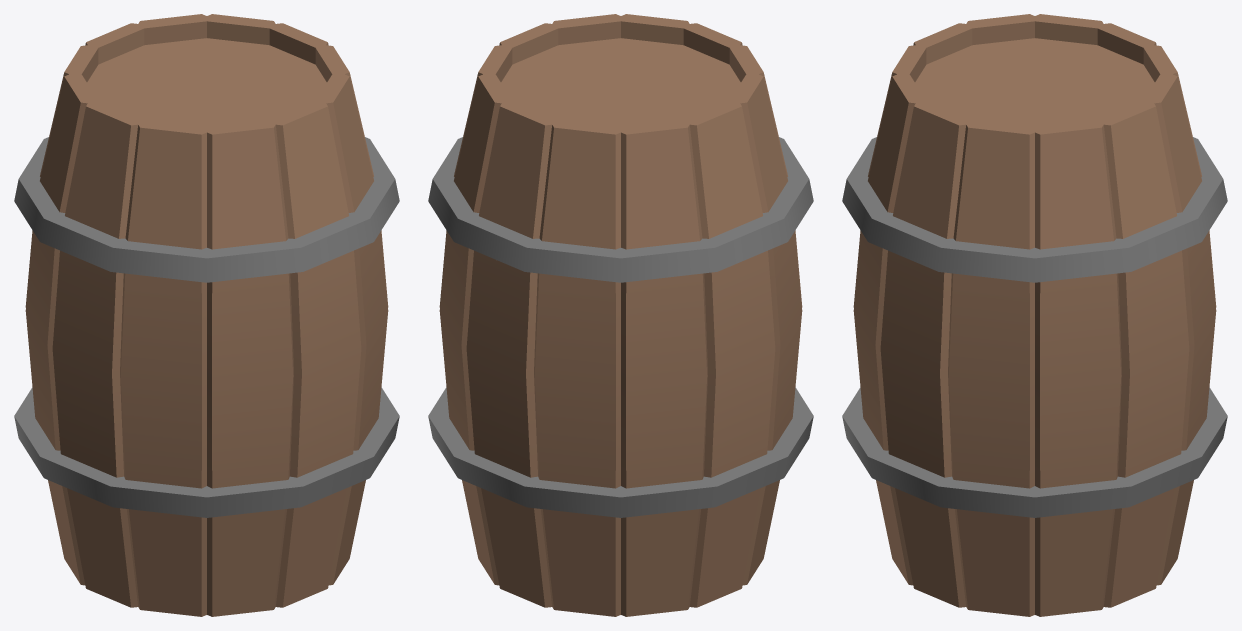
The model's file is Barril_1.fbx.
3 views of the same model, side by side, from view 1: azimuth 30°, elevation 25°; view 2: azimuth 150°, elevation 25°; view 3: azimuth 270°, elevation 25° (orthographic).
Parts seen in each view (by area): view 1: Barril; view 2: Barril; view 3: Barril.
Boxes of the visible parts, left/top/right/bottom form: Barril: left=14, top=14, right=399, bottom=616; Barril: left=428, top=14, right=813, bottom=616; Barril: left=842, top=14, right=1227, bottom=616.
Bounding box in the file's own units: 1 × 1.38 × 1.
